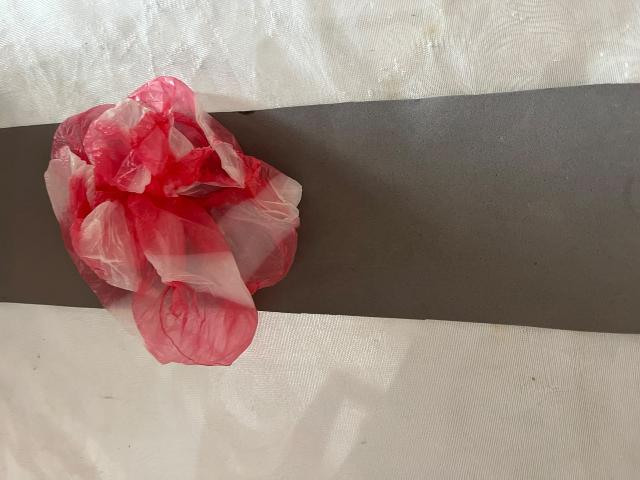LDPE: (21, 52, 335, 389)
